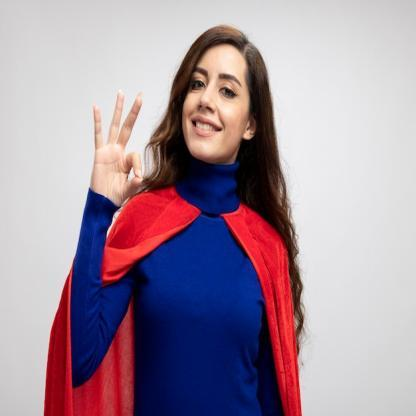ok: (90, 86, 146, 207)
